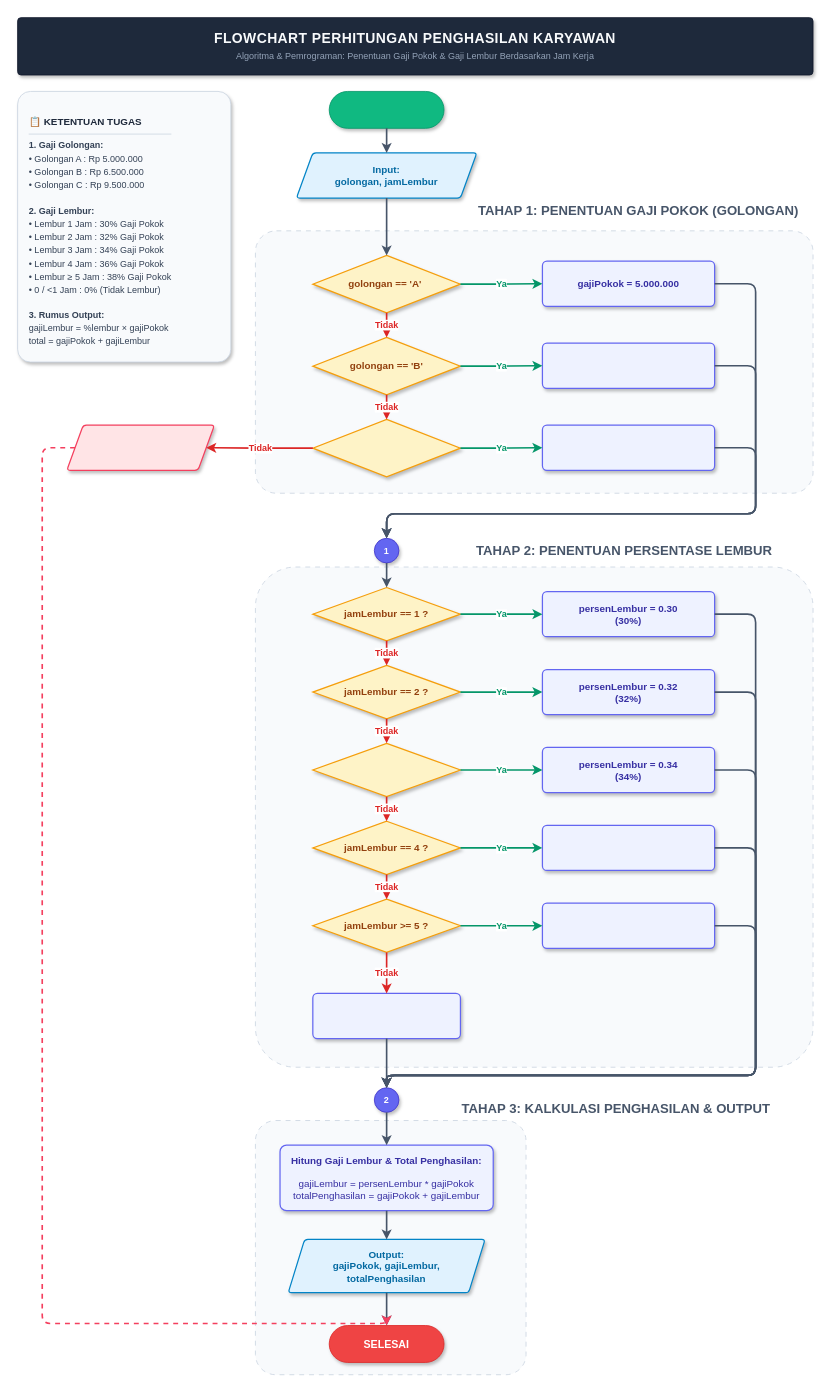
Image size: 832x1389. Some labels were removed from this diagram. The shapes that lost their labels are listed below. From the top down, each one's centre as x and y in pixels, then its label:
point 387,110: MULAI
point 629,366: gajiPokok = 6.500.000
point 141,448: Output: "Golongan Tidak Valid!"
point 387,449: golongan == 'C'
point 629,448: gajiPokok = 9.500.000
point 387,771: jamLembur == 3 ?
point 629,848: persenLembur = 0.36 (36%)
point 629,926: persenLembur = 0.38 (38%)
point 387,1017: persenLembur = 0.00 (Tidak Lembur)
